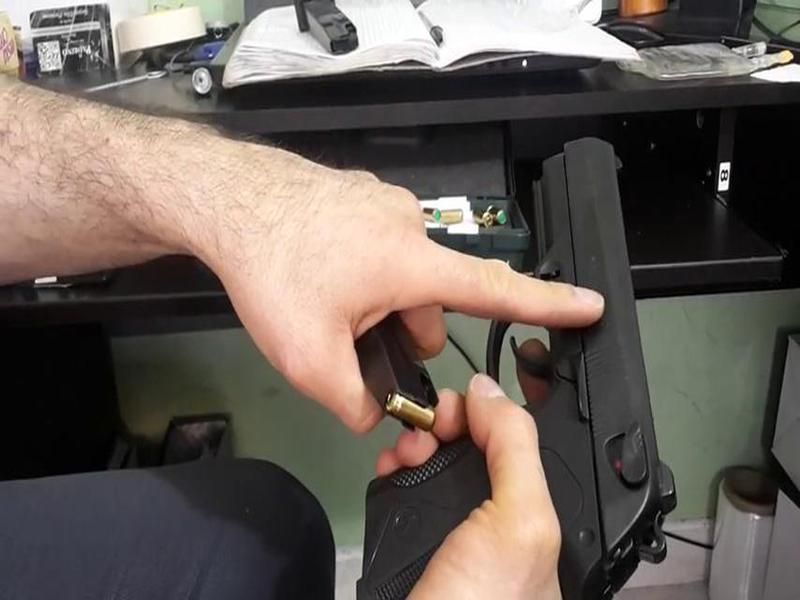Pistola: (313, 140, 674, 599)
